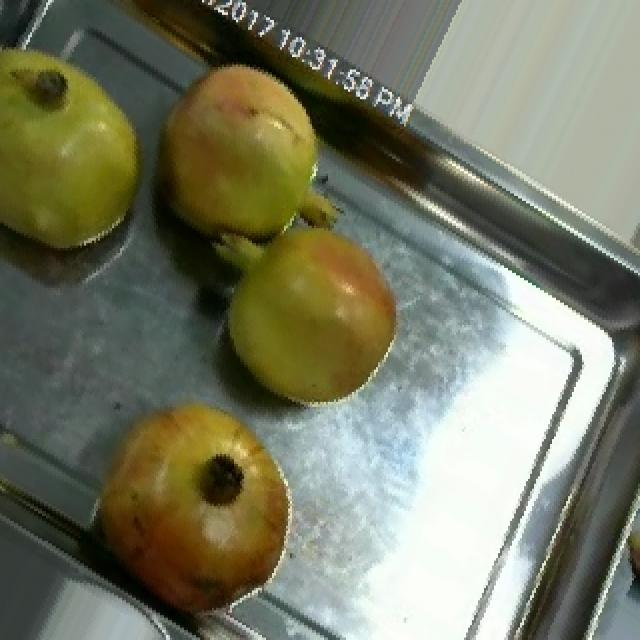fruit: (70, 374, 318, 640), (192, 194, 430, 439), (130, 35, 356, 283), (0, 22, 178, 280)
